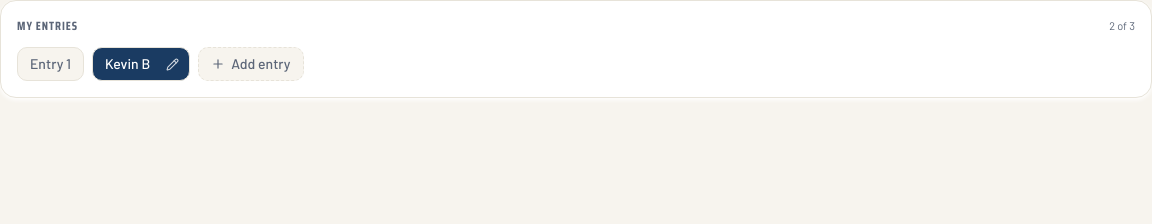
Test: EntrySwitcher — renaming an entry that exists › closes the rename form when the member switches entries or starts a draft
Step 1. Click the button with test id "rename-entry-2" → click(176, 64), box left=162, top=52, right=189, bottom=76
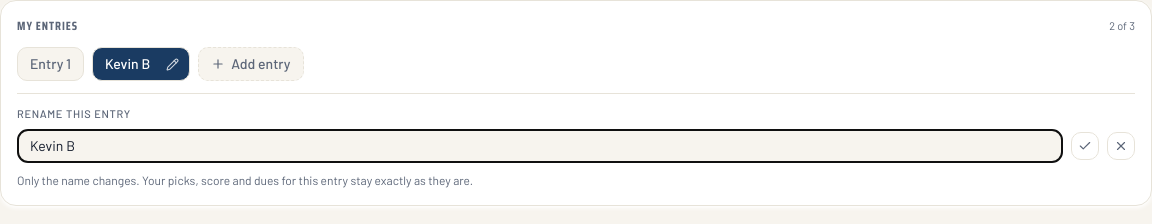
Expected: the element with test id "rename-entry-form" is shown, left=17, top=93, right=1135, bottom=188
Step 2. Click the button "Entry 1" → click(50, 64), box left=18, top=48, right=83, bottom=80
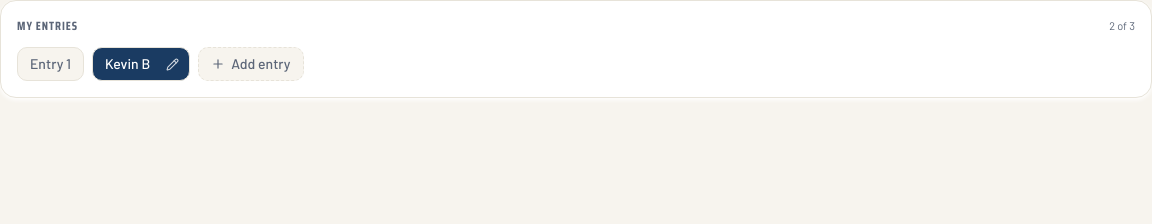
Expected: the element with test id "rename-entry-form" is gone
